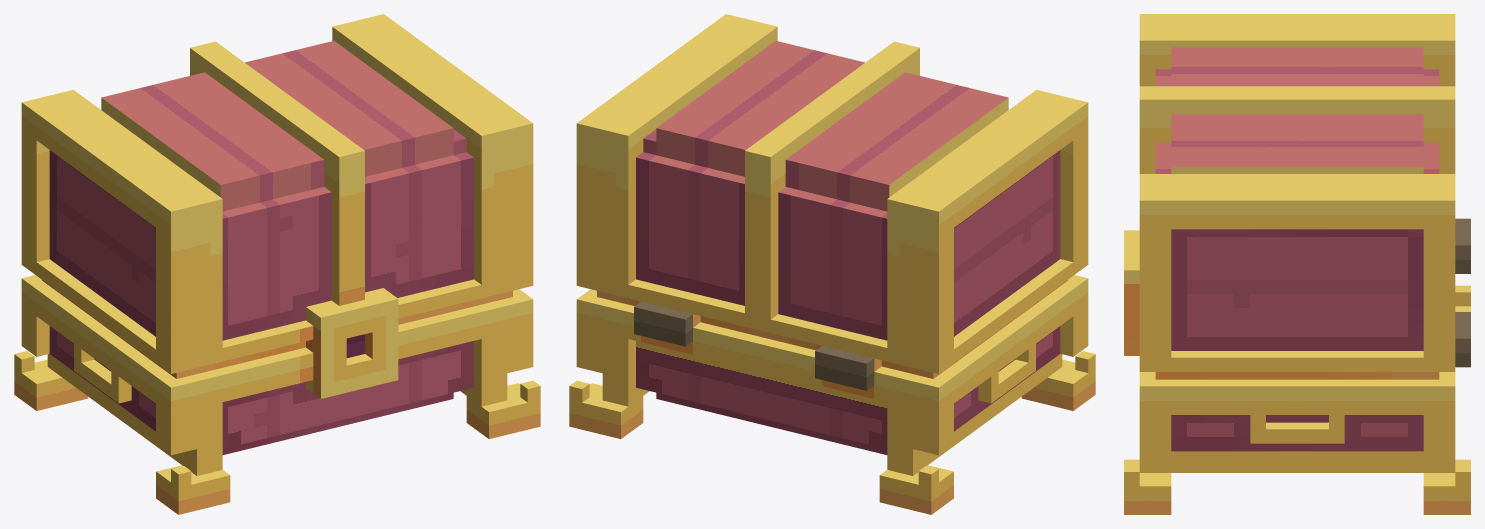
Rendered from treasureao.fezao.glb.
3 views of the same model, side by side, from view 1: azimuth 30°, elevation 25°; view 2: azimuth 150°, elevation 25°; view 3: azimuth 270°, elevation 25° (orthographic). The views are drawn at different scales.
Parts seen in each view (by area): view 1: treasureAO; view 2: treasureAO; view 3: treasureAO.
Boxes of the visible parts, left/top/right/bottom form: treasureAO: left=14, top=14, right=540, bottom=514; treasureAO: left=569, top=14, right=1095, bottom=514; treasureAO: left=1124, top=14, right=1470, bottom=514.
Bounding box in the file's own units: 1.75 × 1.44 × 1.38.
Materials: 1 (1 with a texture image).
